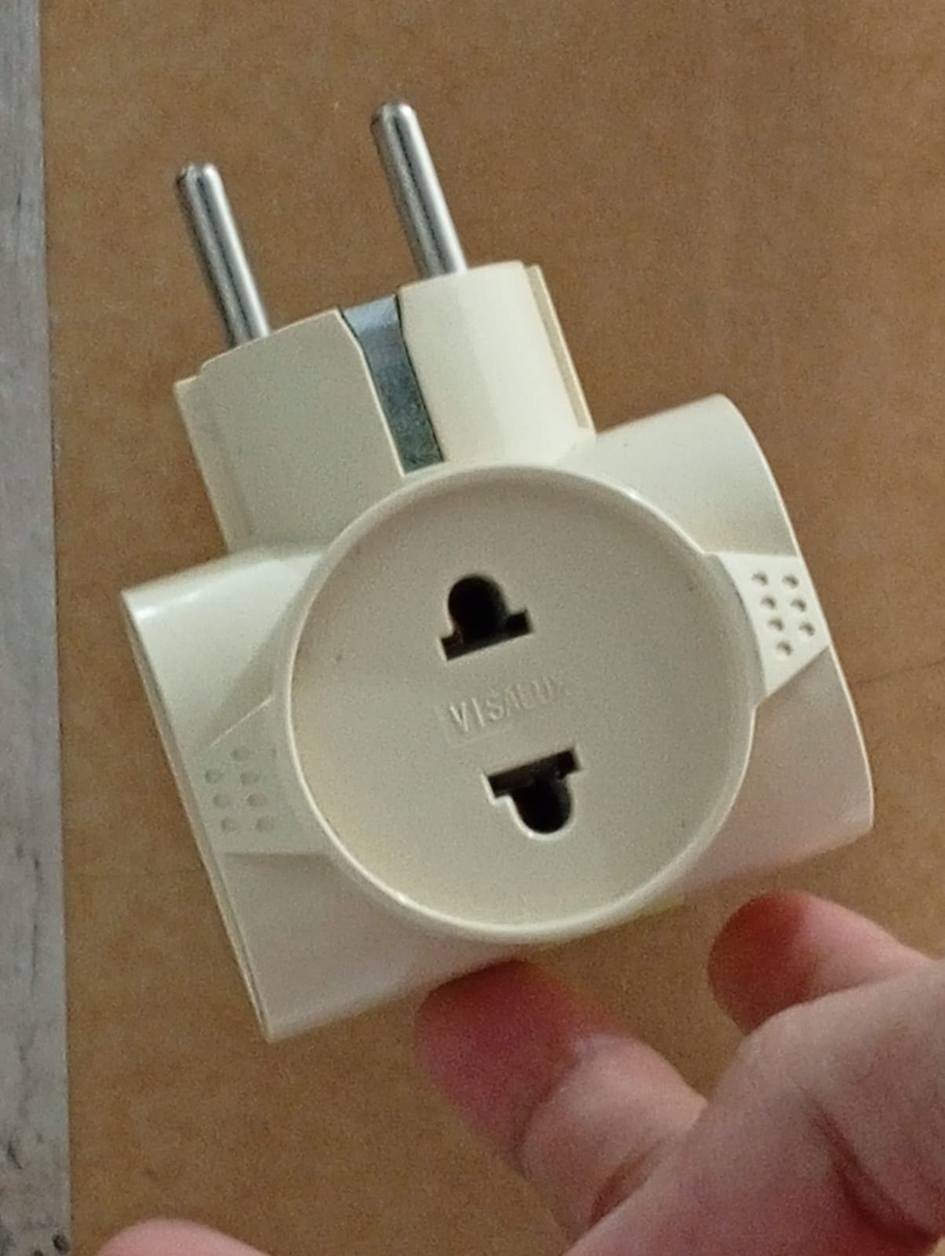Colokan: (38, 68, 920, 1068)
